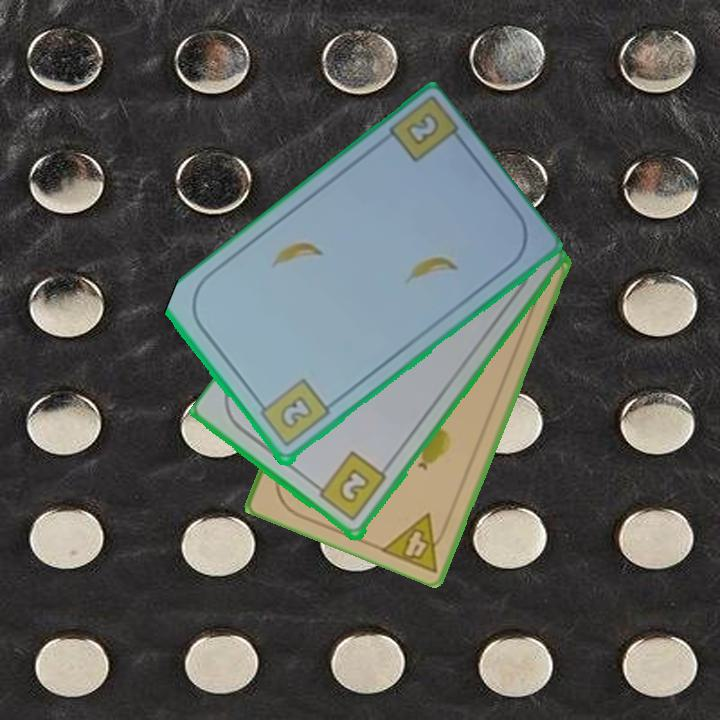2b: (310, 448, 389, 525), (253, 375, 333, 451), (402, 109, 443, 150)
4p: (377, 509, 454, 575)
